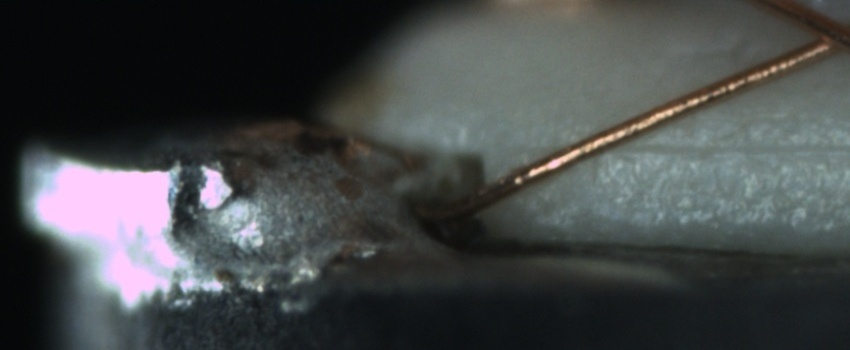CL: (791, 6, 847, 62)
DL: (557, 118, 850, 177)
